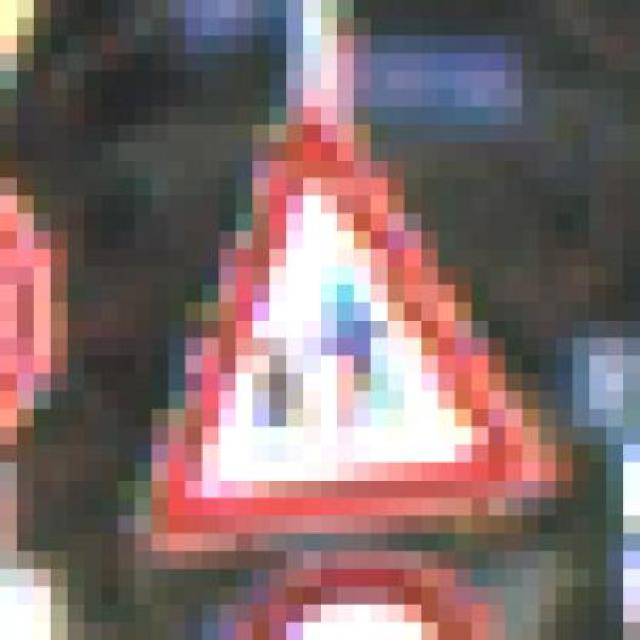Beware of children: (135, 89, 573, 552)
